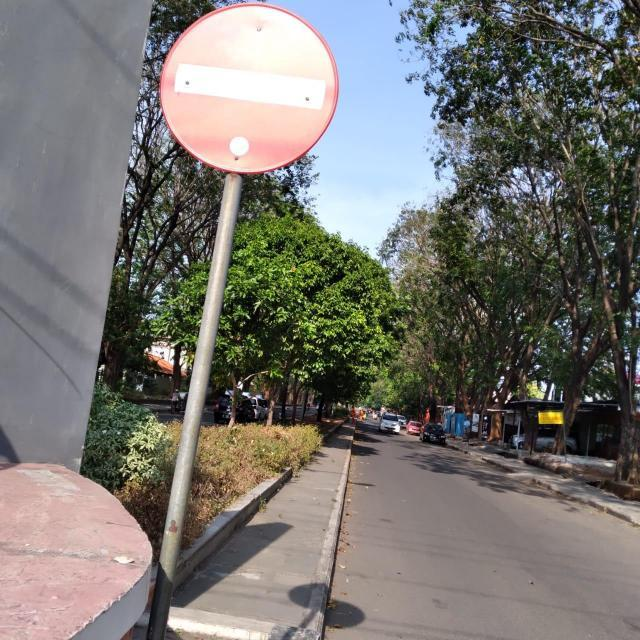traffic sign: (161, 1, 334, 171)
